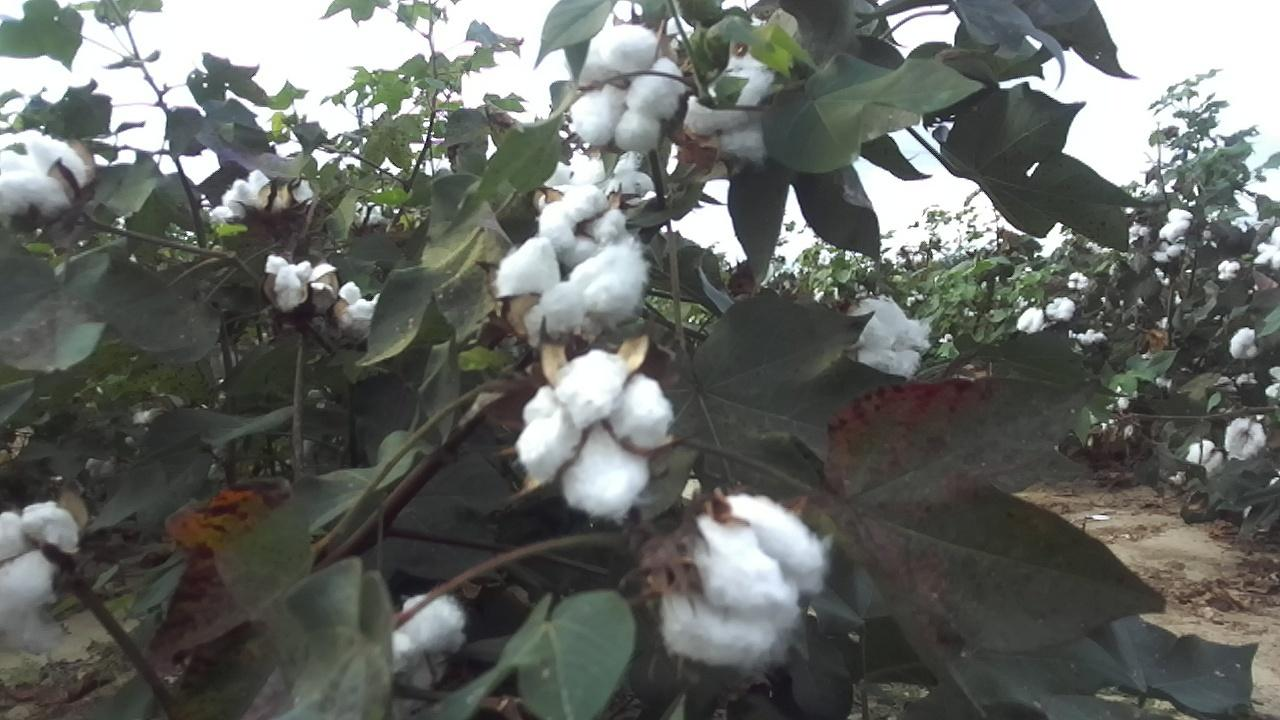cotton_ready: (660, 492, 832, 668), (519, 350, 677, 521), (500, 239, 657, 339), (685, 17, 784, 161), (572, 22, 680, 151), (0, 500, 82, 648), (0, 127, 89, 221), (849, 290, 934, 382), (539, 180, 625, 265), (389, 590, 469, 668)
